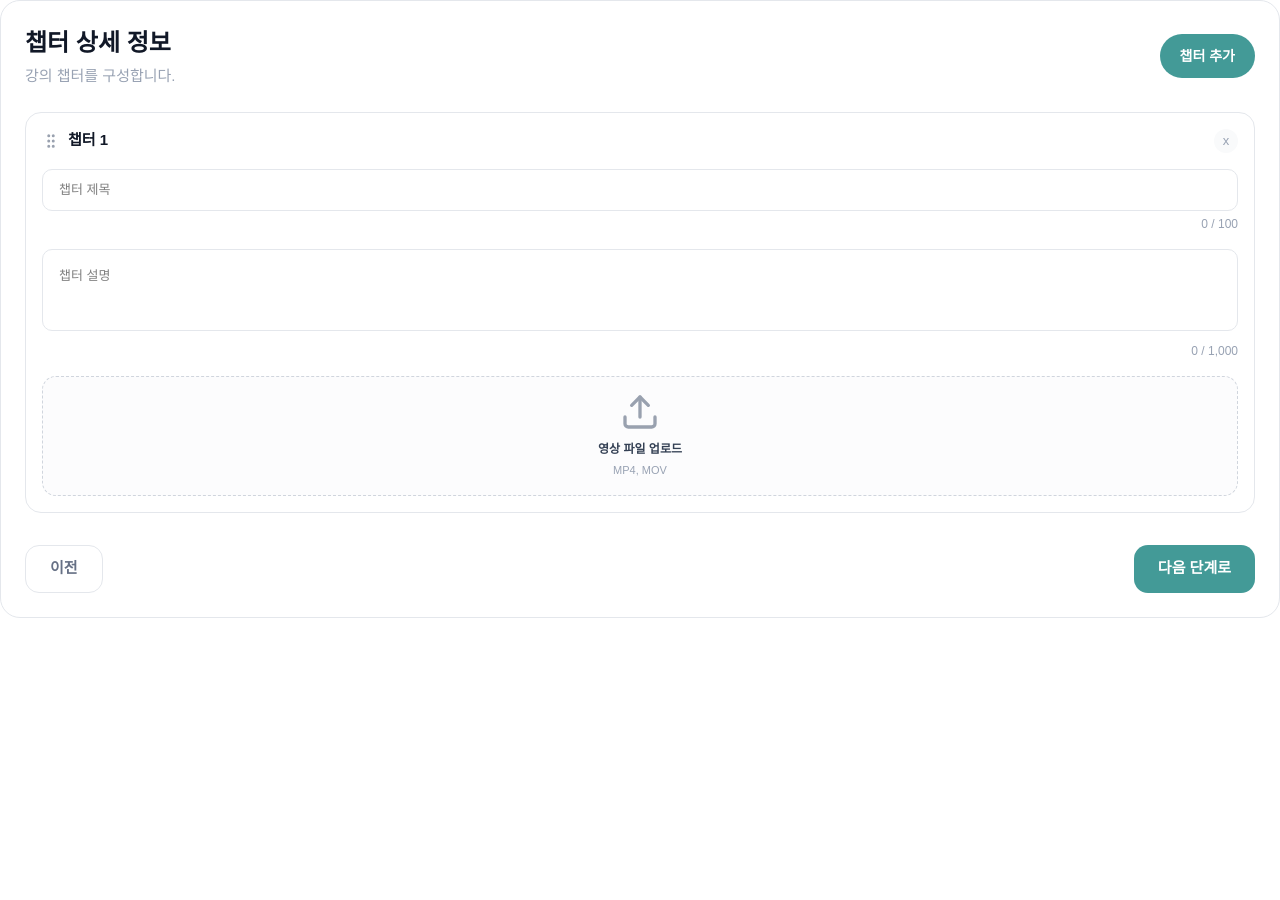
it: LectureChapterForm 컴포넌트 테스트 › 강의 ID가 없으면 챕터 등록을 막는다
Step 1. Click the button "다음 단계로" → (1194, 568), box [1134,544,1255,592]
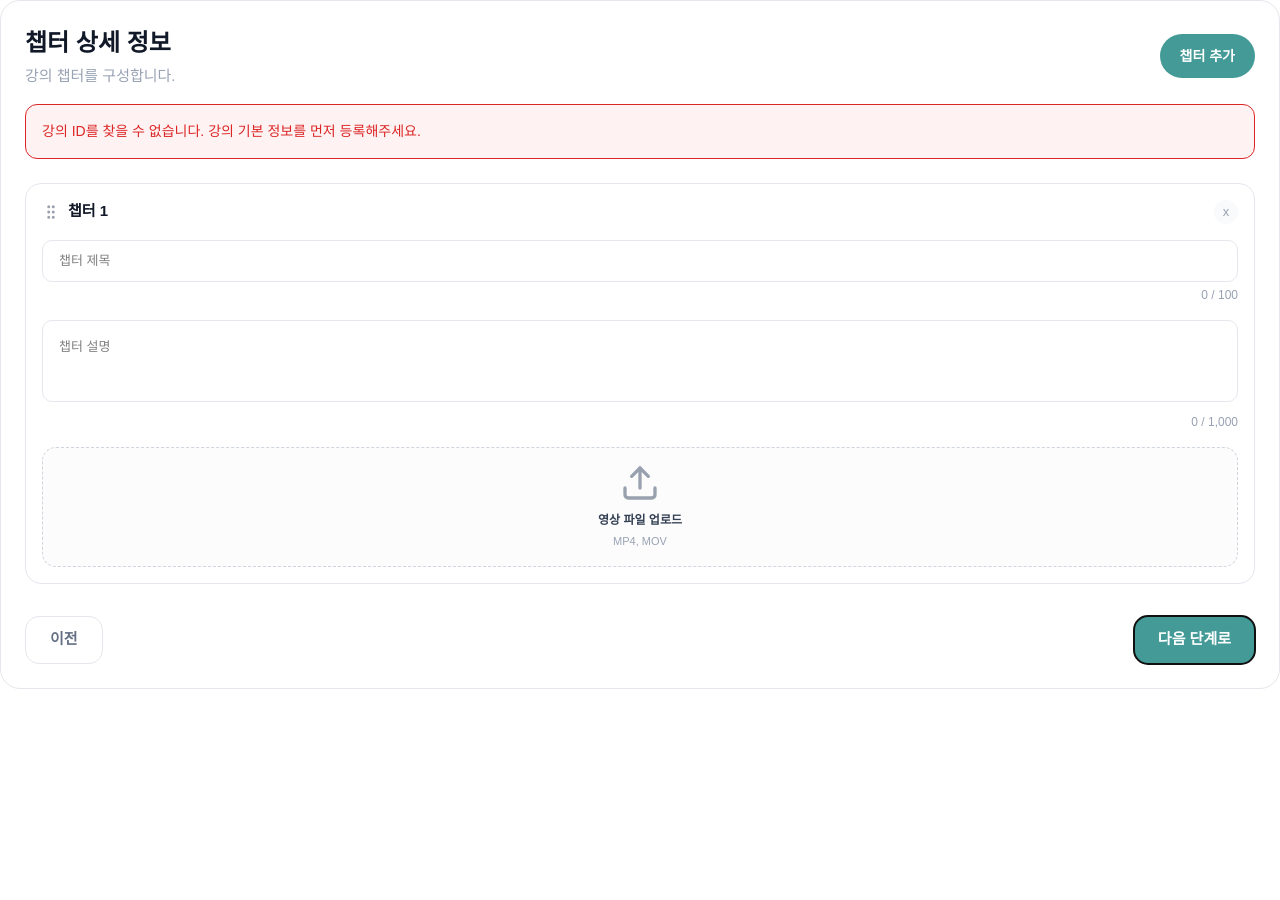
Check: the text "강의 ID를 찾을 수 없습니다. 강의 기본 정보를 먼저 등록해주세요." is shown, box [25,104,1255,158]
